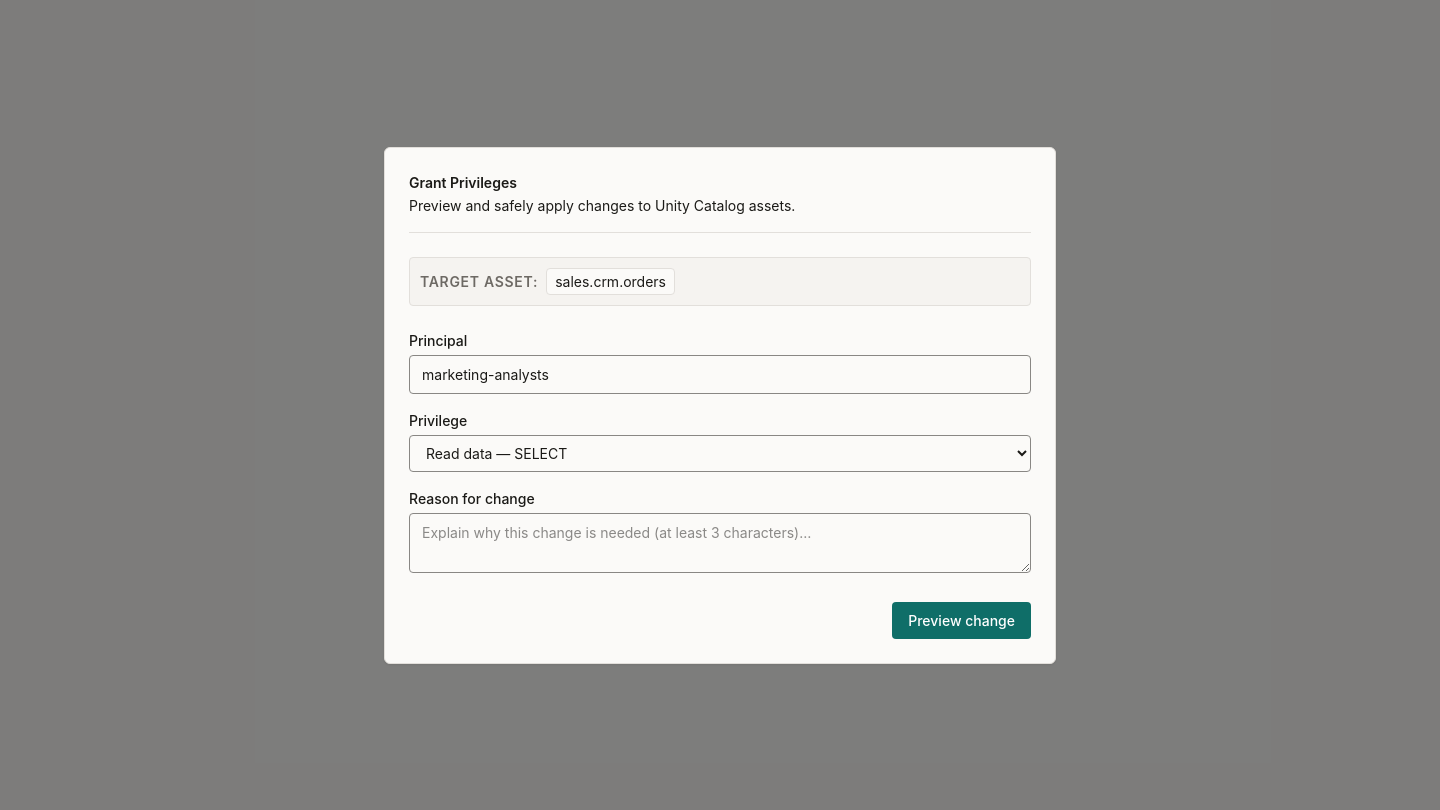
it: PlanFlow (Mutation lifecycle P1-08) › editing a field after preview collapses the preview
This screenshot has width=1440, height=810.
In the text box with placeholder "Explain why this change is needed (at least 3 characters)…": (720, 542) [409,512,1031,572], type "Initial reason string"
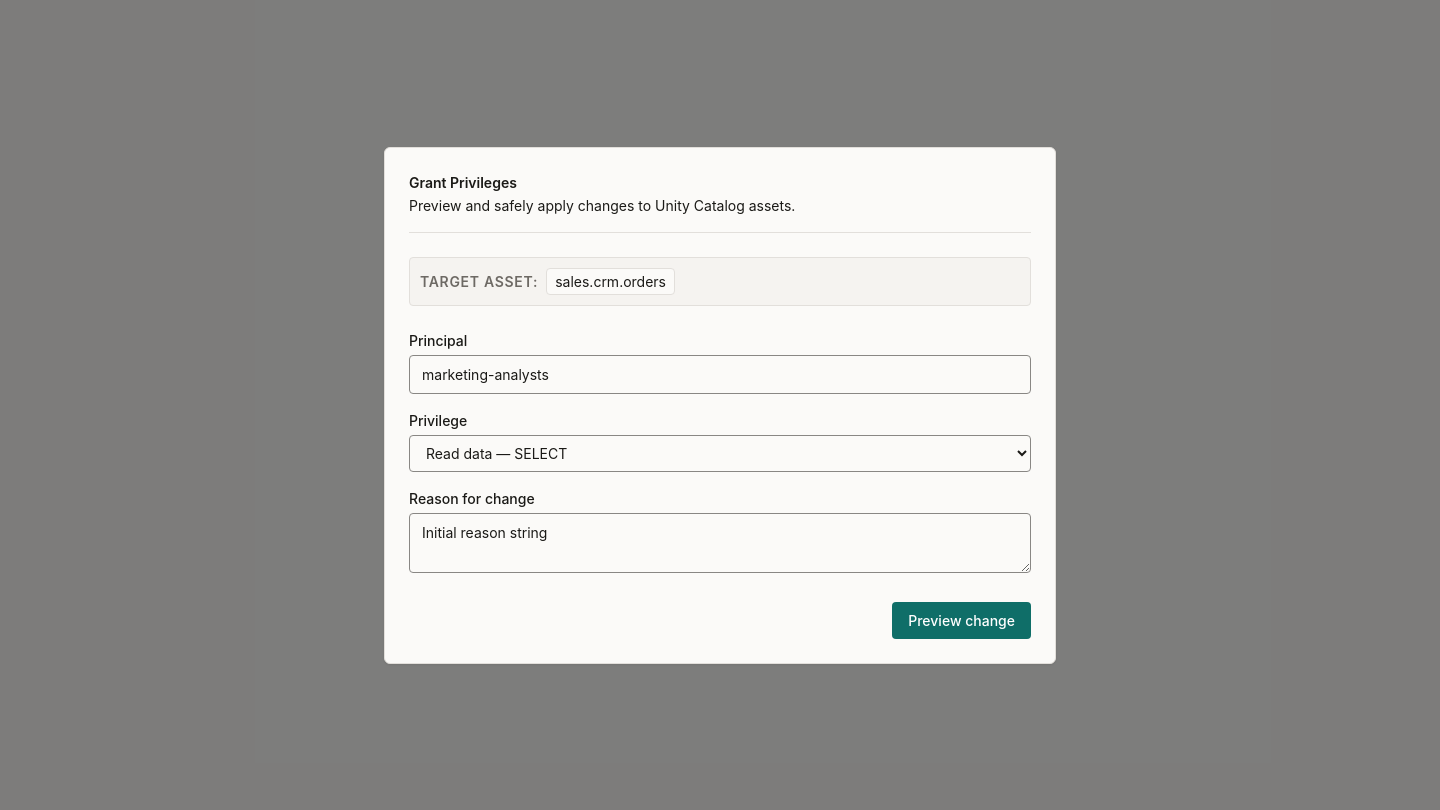
Replace the text in the field with placeholder "Enter user, group, or service principal…" with "initial-principal": (720, 374) [409,354,1031,394]
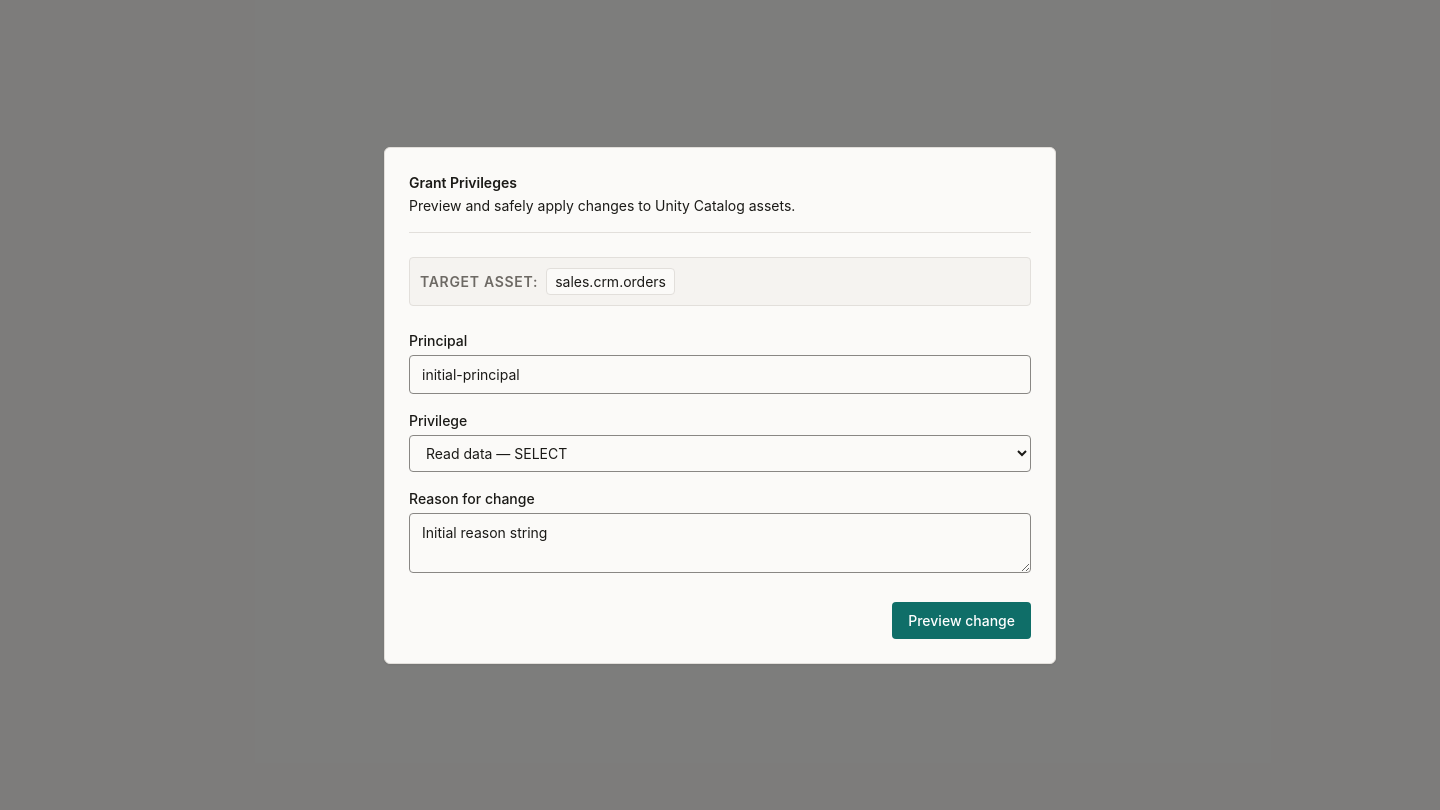
Click the button "Preview change": (962, 620) [892,602,1031,638]
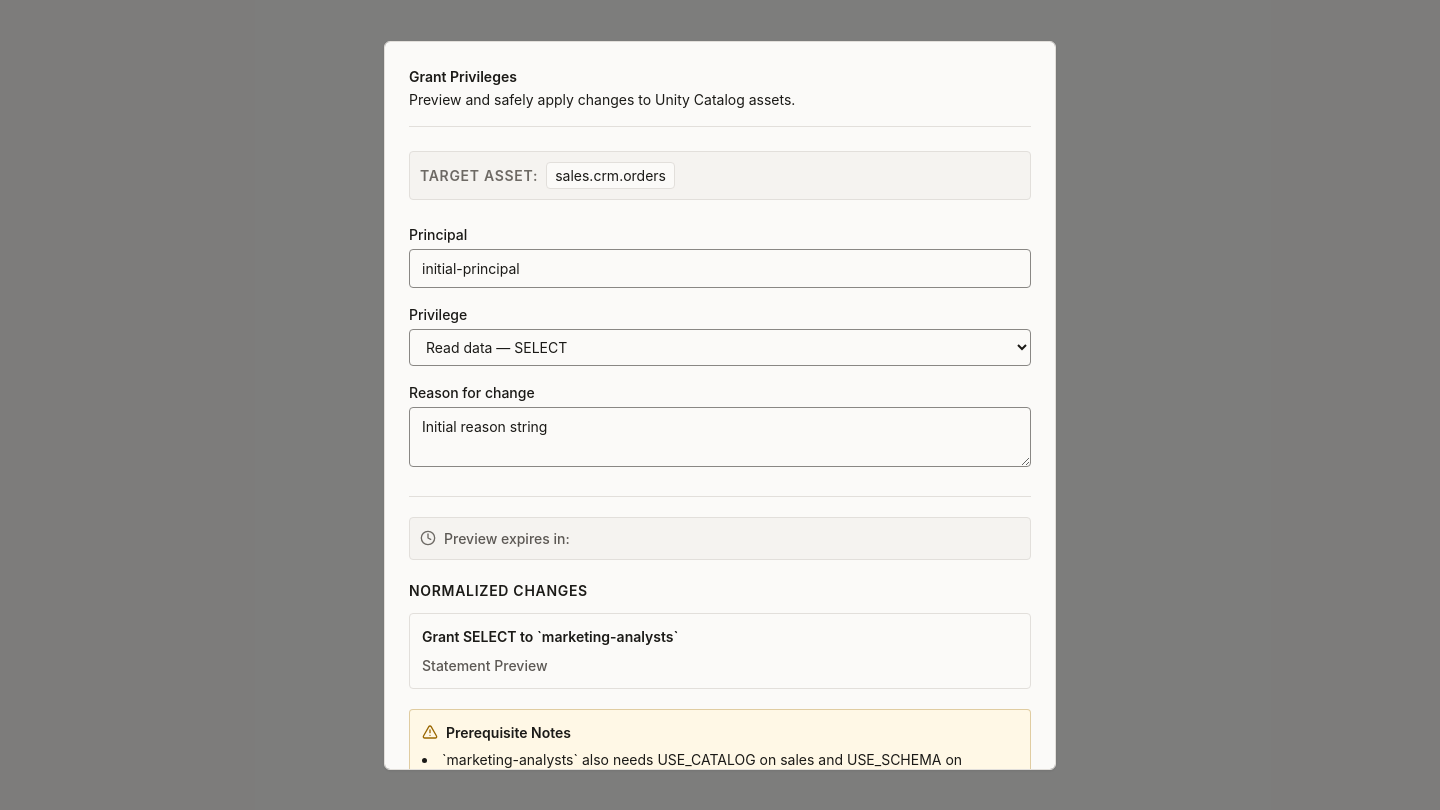
Result: the heading "Normalized Changes" is shown at [409,582,588,598]
# Edit principal input
Replace the text in the field with placeholder "Enter user, group, or service principal…" with "edited-principal": (720, 268) [409,248,1031,288]
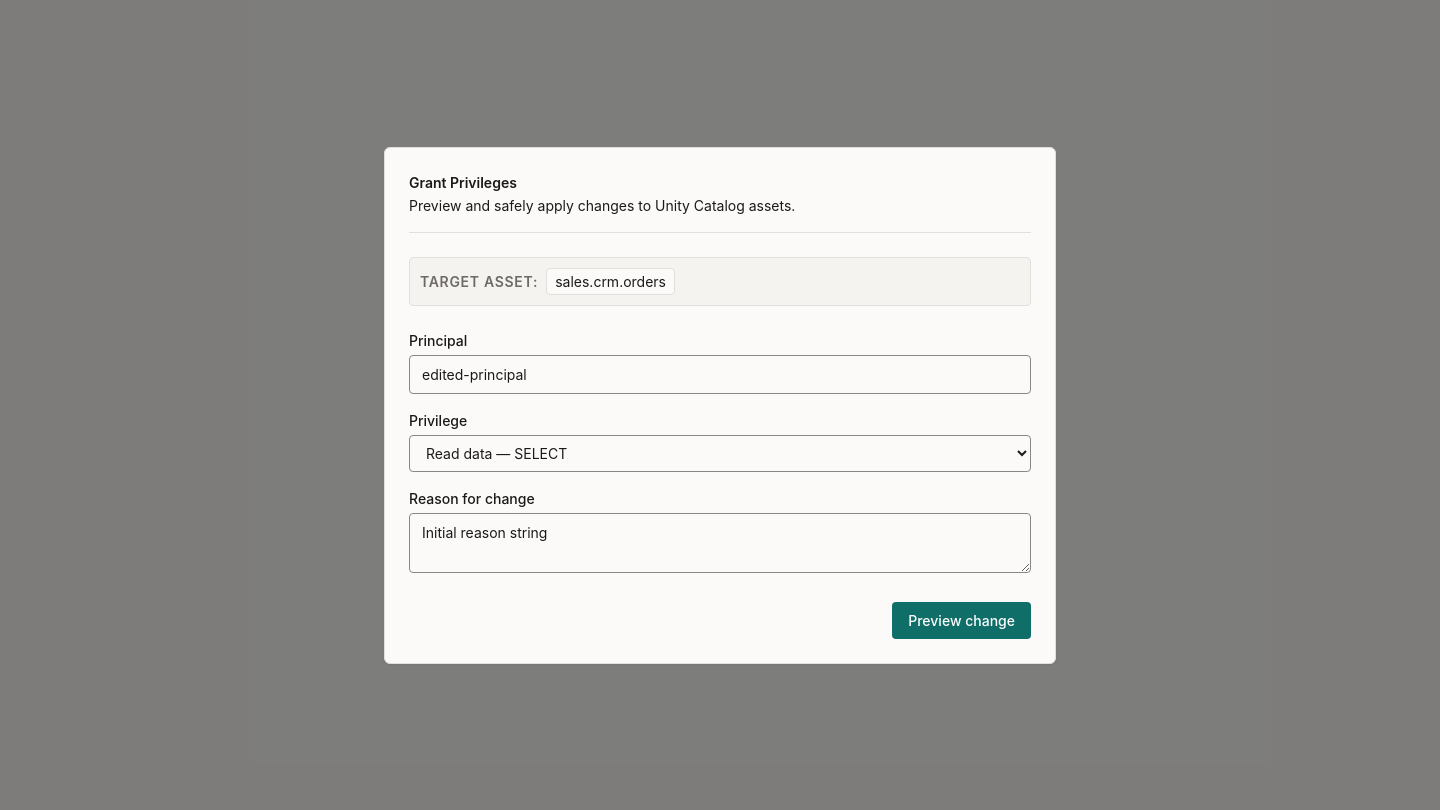
Result: the heading "Normalized Changes" is gone
Result: the button "Preview change" is shown at [892,602,1031,638]
